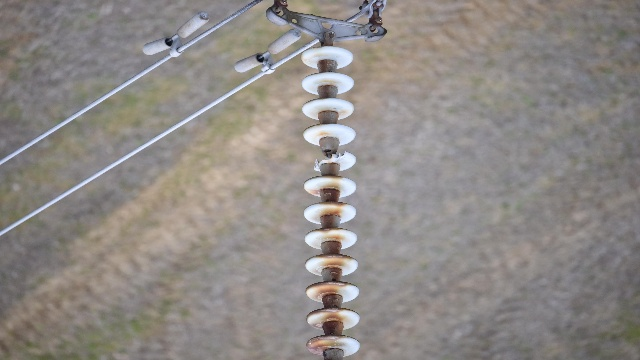broken_local: (311, 149, 351, 171)
insulator_unspecified: (302, 46, 362, 355)
